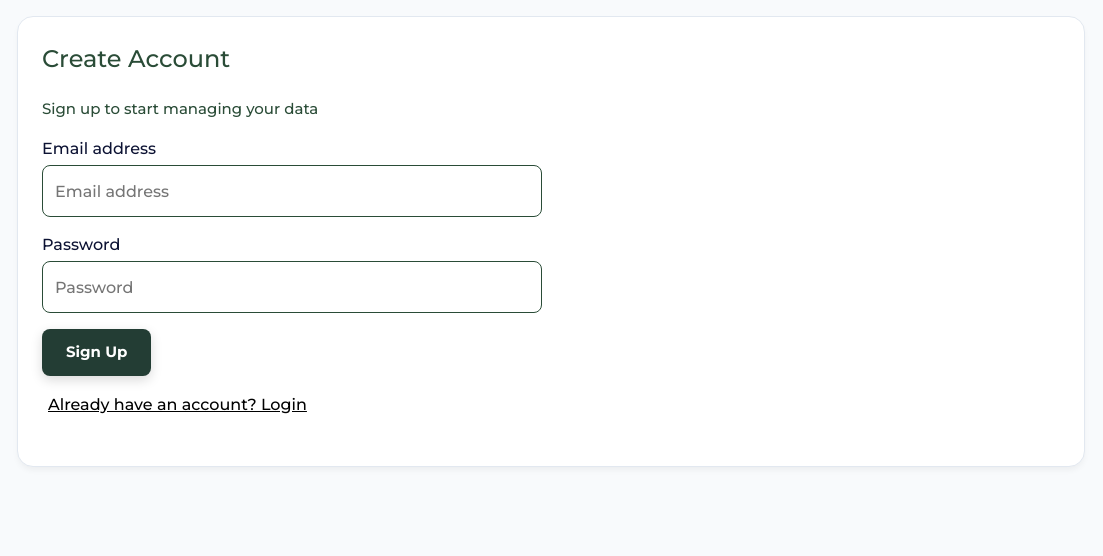
it: Login signup › continues with signup when the email is available
Type "New@Example.com " into the field labelled "Email address" at (292, 191), box [42,165,542,217]
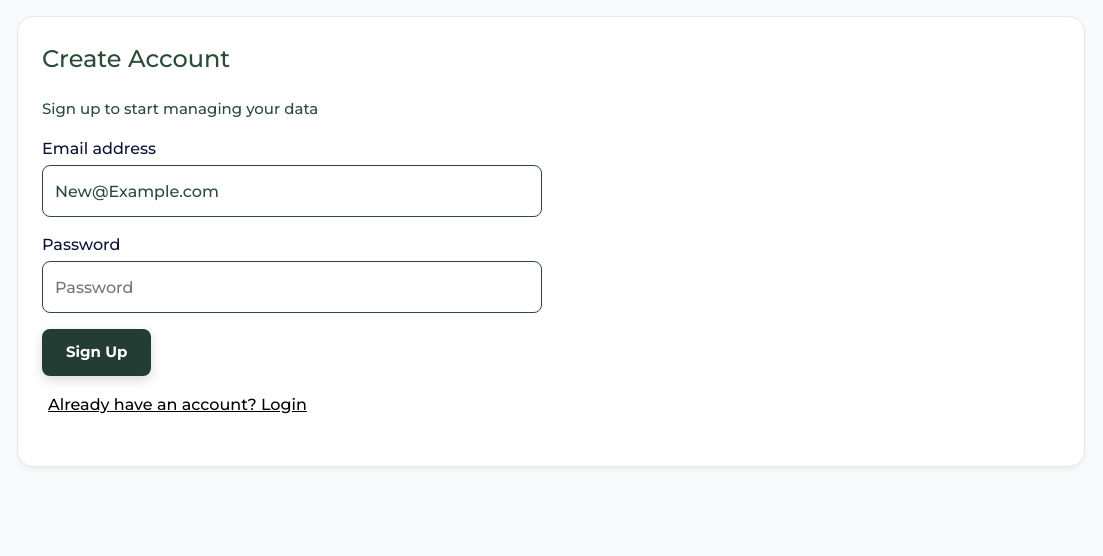
Type "password123" into the password field labelled "Password" at (292, 287), box [42,261,542,313]
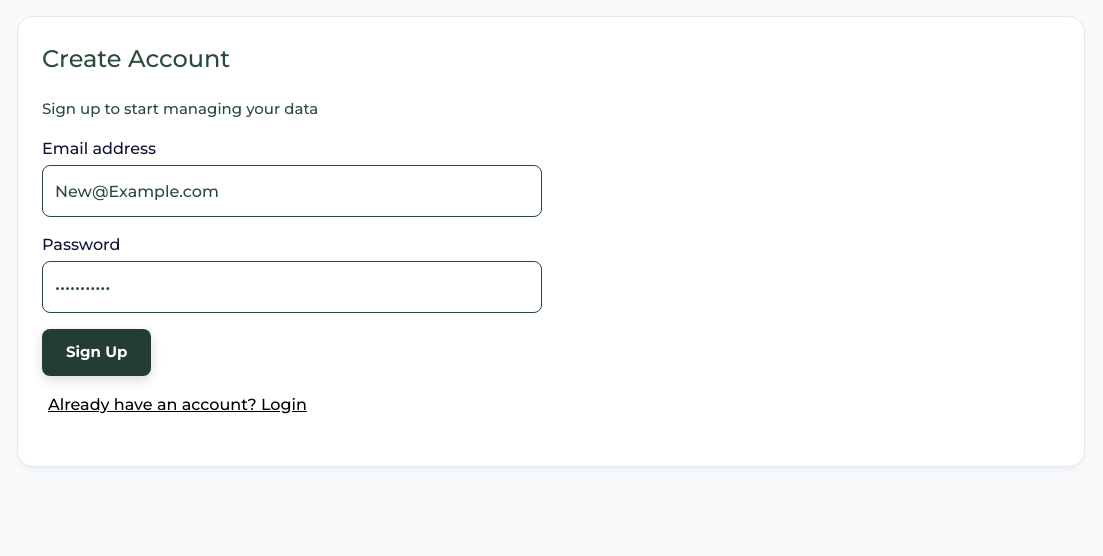
Click the button "Sign Up" at (97, 352), box [42,329,151,376]
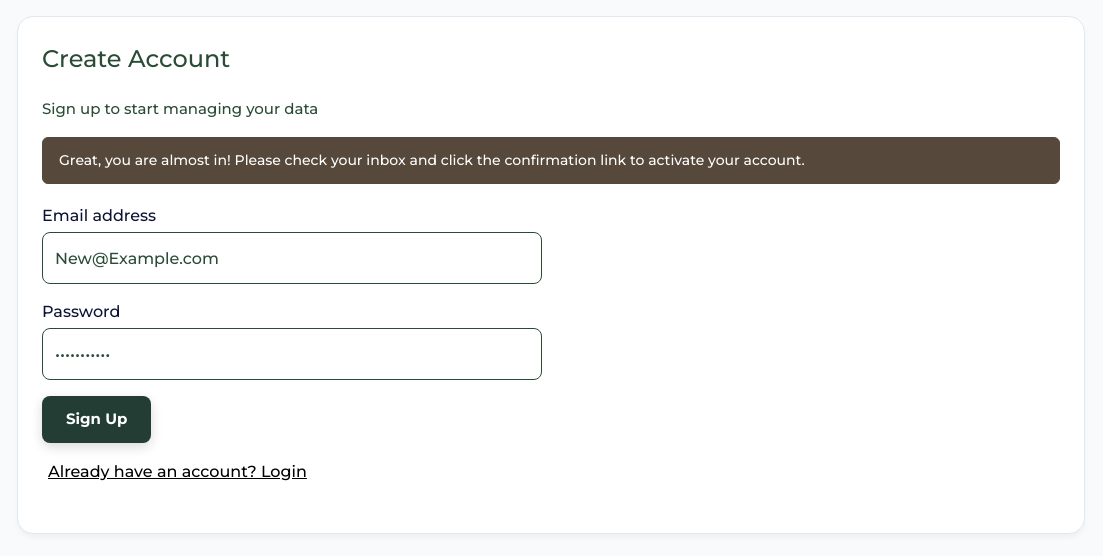
expect the text "Please check your inbox" is shown: met, box [59,151,805,169]
